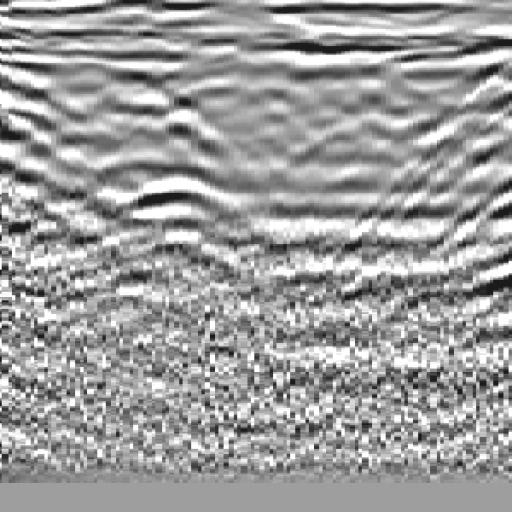metalic: (93, 40, 266, 285)
nonmetalic: (393, 41, 512, 274)
